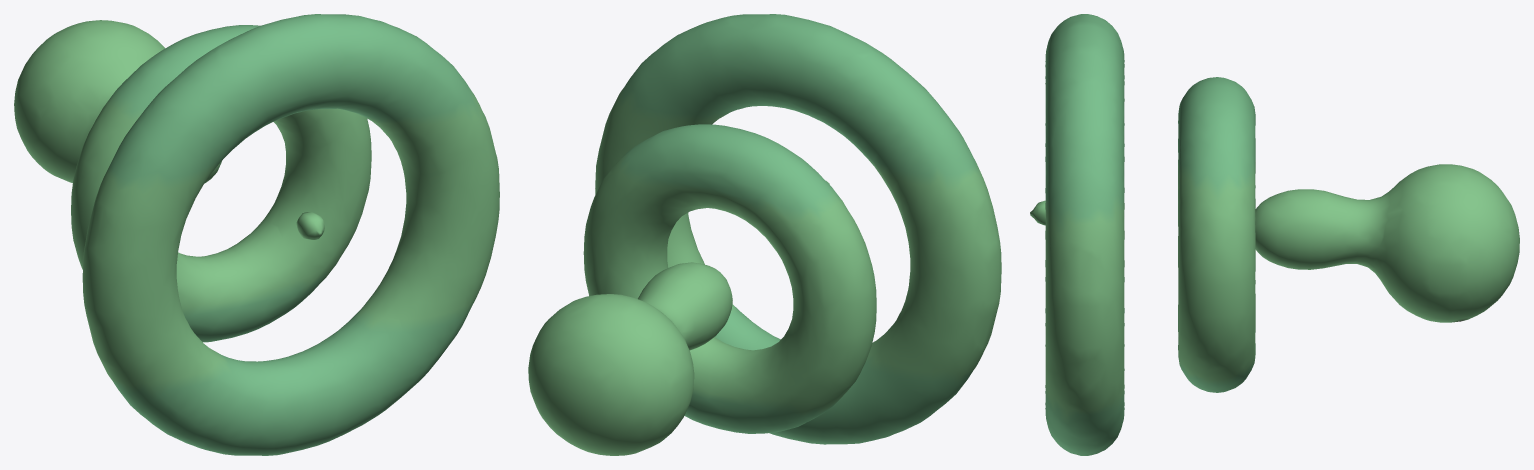
File: snake.glb
3 renders of one model, left to right at view 1: azimuth 30°, elevation 25°; view 2: azimuth 150°, elevation 25°; view 3: azimuth 270°, elevation 25°, orthographic. The views are drawn at different scales.
Visible parts, largest first — view 1: snake_surface; view 2: snake_surface; view 3: snake_surface.
Boxes of the visible parts, x1=… form: snake_surface: x1=14, y1=14, x2=499, y2=455; snake_surface: x1=528, y1=14, x2=1001, y2=455; snake_surface: x1=1030, y1=14, x2=1519, y2=455.
Size of the model in its own units: 1.44 by 1.44 by 1.6.
